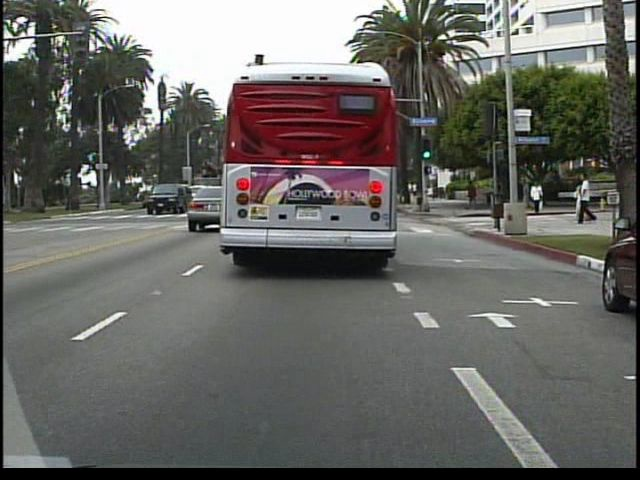person: (575, 168, 596, 225), (528, 178, 547, 216), (463, 174, 479, 214), (517, 177, 534, 211)
